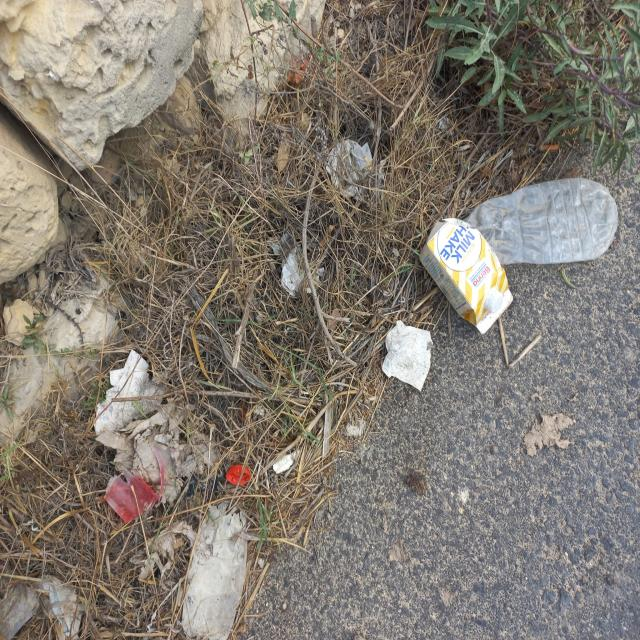Bottle: (463, 176, 624, 266)
Bottle cap: (224, 465, 254, 486)
Carton: (422, 215, 515, 337)
Cigarette: (543, 144, 558, 151)
Other litter: (134, 501, 249, 640), (381, 322, 435, 394), (271, 227, 325, 299), (328, 140, 386, 201), (439, 116, 454, 136)
Other plastic: (104, 440, 167, 525)
Paper: (87, 348, 232, 500)
Styrofoam piece: (269, 449, 306, 475)
